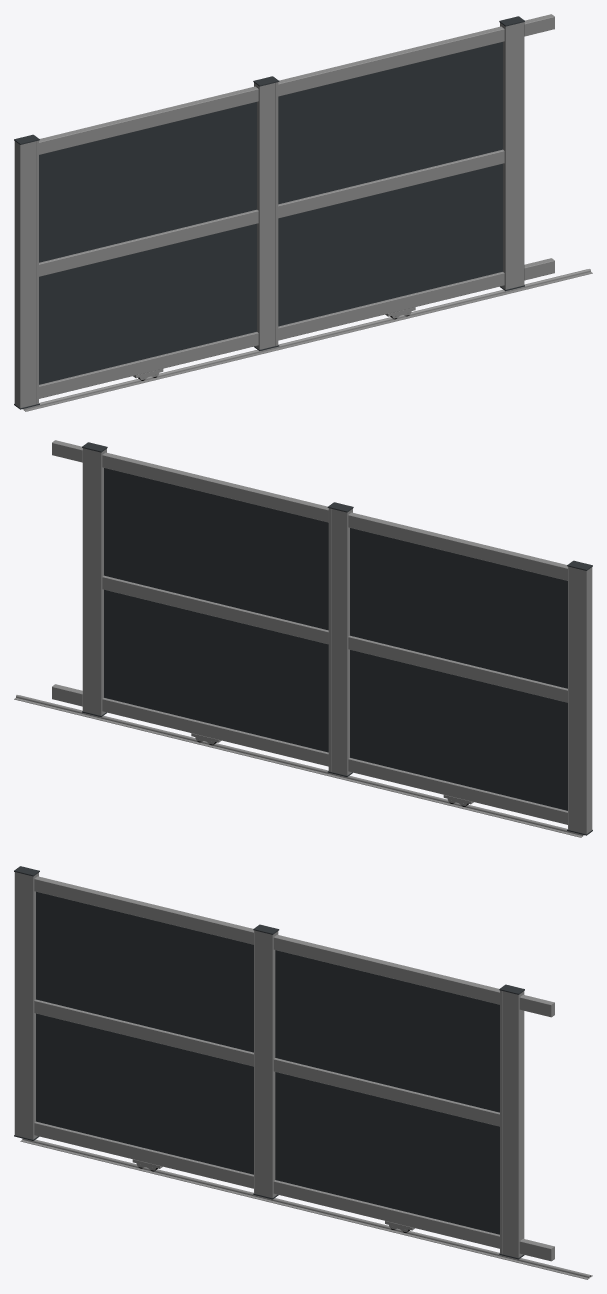
3 renders of one model, top to bottom at view 1: azimuth 30°, elevation 25°; view 2: azimuth 150°, elevation 25°; view 3: azimuth 330°, elevation 25°, orthographic.
Parts seen in each view (by area): view 1: Box2340, Shape107412162, Shape107412163, Shape107412643, Shape107412169, Shape107413021, Shape107413022, Rail; view 2: Box2340, Shape107412162, Shape107412163, Shape107412643, Shape107412169, Shape107413021, Shape107413022, Rail; view 3: Box2340, Shape107412162, Shape107412163, Shape107412169, Shape107413021, Shape107412643, Shape107413022, Rail.
Part boxes in pixels (x1,y1,x2,y2): Box2340: (39, 42, 502, 384); Shape107412162: (39, 14, 554, 154); Shape107412163: (39, 258, 554, 398); Shape107412643: (14, 140, 38, 408); Shape107412169: (39, 149, 504, 276); Shape107413021: (500, 22, 524, 289); Shape107413022: (254, 82, 278, 349); Rail: (22, 269, 592, 411); Box2340: (104, 468, 567, 810); Shape107412162: (52, 440, 567, 580); Shape107412163: (52, 684, 567, 824); Shape107412643: (568, 566, 592, 834); Shape107412169: (102, 575, 567, 702); Shape107413021: (82, 448, 106, 715); Shape107413022: (328, 508, 352, 775); Rail: (14, 695, 583, 837); Box2340: (36, 891, 499, 1234); Shape107412162: (34, 876, 554, 1017); Shape107412163: (34, 1121, 554, 1261); Shape107412169: (34, 999, 499, 1126); Shape107413021: (500, 990, 524, 1257); Shape107412643: (14, 872, 38, 1139); Shape107413022: (254, 930, 278, 1197); Rail: (20, 1138, 592, 1279).
Size of the model in its own units: 3638 by 1636 by 70.
7 materials, 3 textured.
